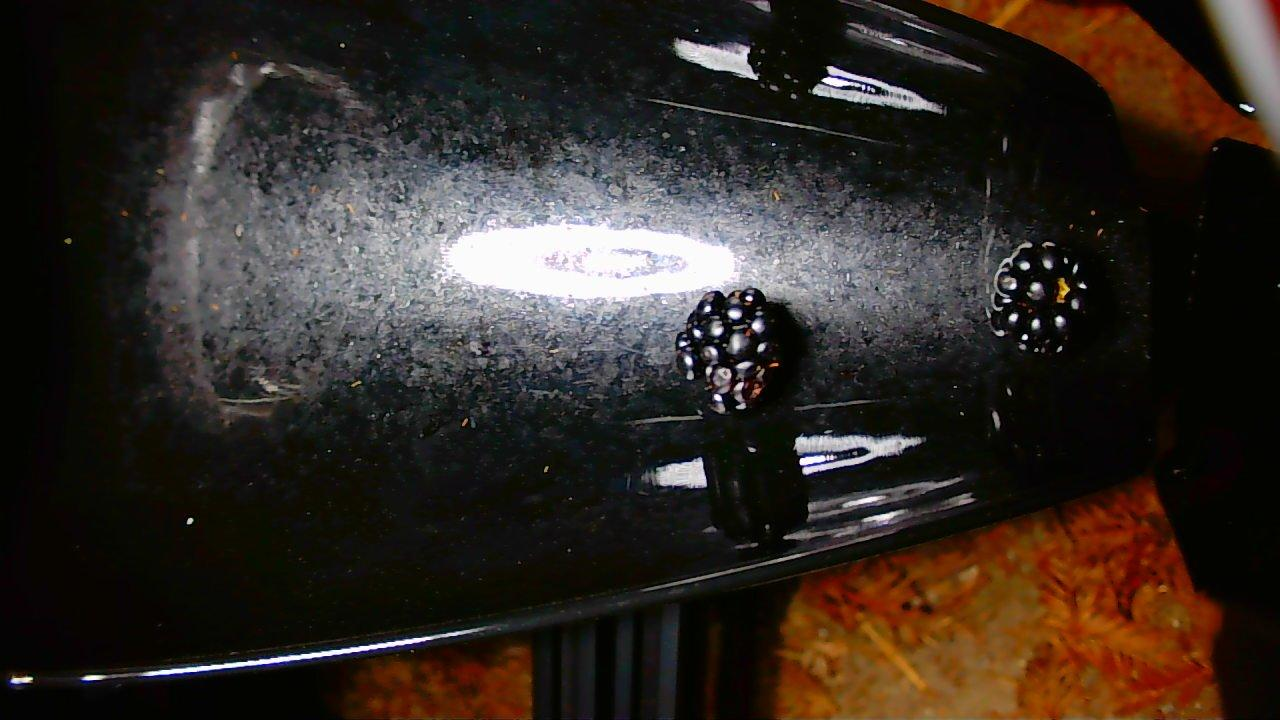berry: (676, 288, 786, 414), (988, 243, 1094, 352)
